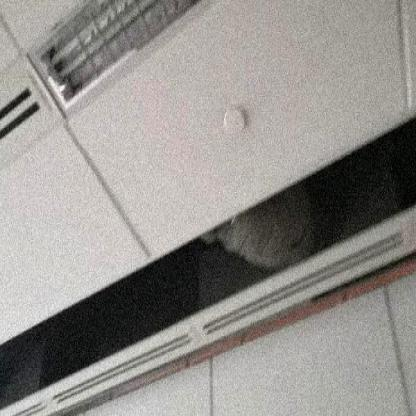light_off: (20, 4, 231, 115)
